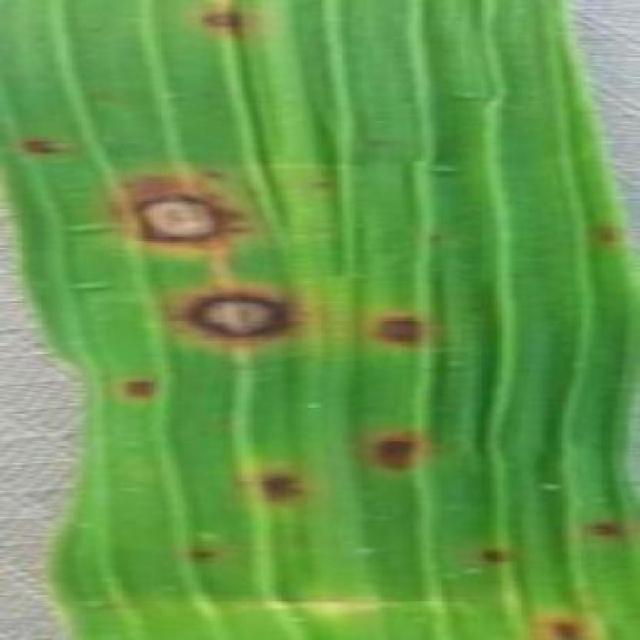Bacterial_Leaf_Blight: (100, 157, 266, 271), (156, 268, 324, 375), (358, 296, 440, 369)
Leaf_Blast: (358, 413, 432, 484), (277, 598, 401, 638), (244, 453, 319, 518), (178, 0, 270, 46), (530, 600, 608, 640), (574, 506, 638, 551), (12, 122, 76, 166), (112, 359, 163, 410), (460, 534, 518, 575), (179, 534, 227, 572), (584, 212, 624, 255), (355, 126, 403, 159), (442, 83, 492, 114), (66, 213, 111, 247), (83, 78, 126, 111), (193, 158, 241, 187), (297, 168, 338, 200), (77, 17, 114, 41), (425, 225, 457, 249)
